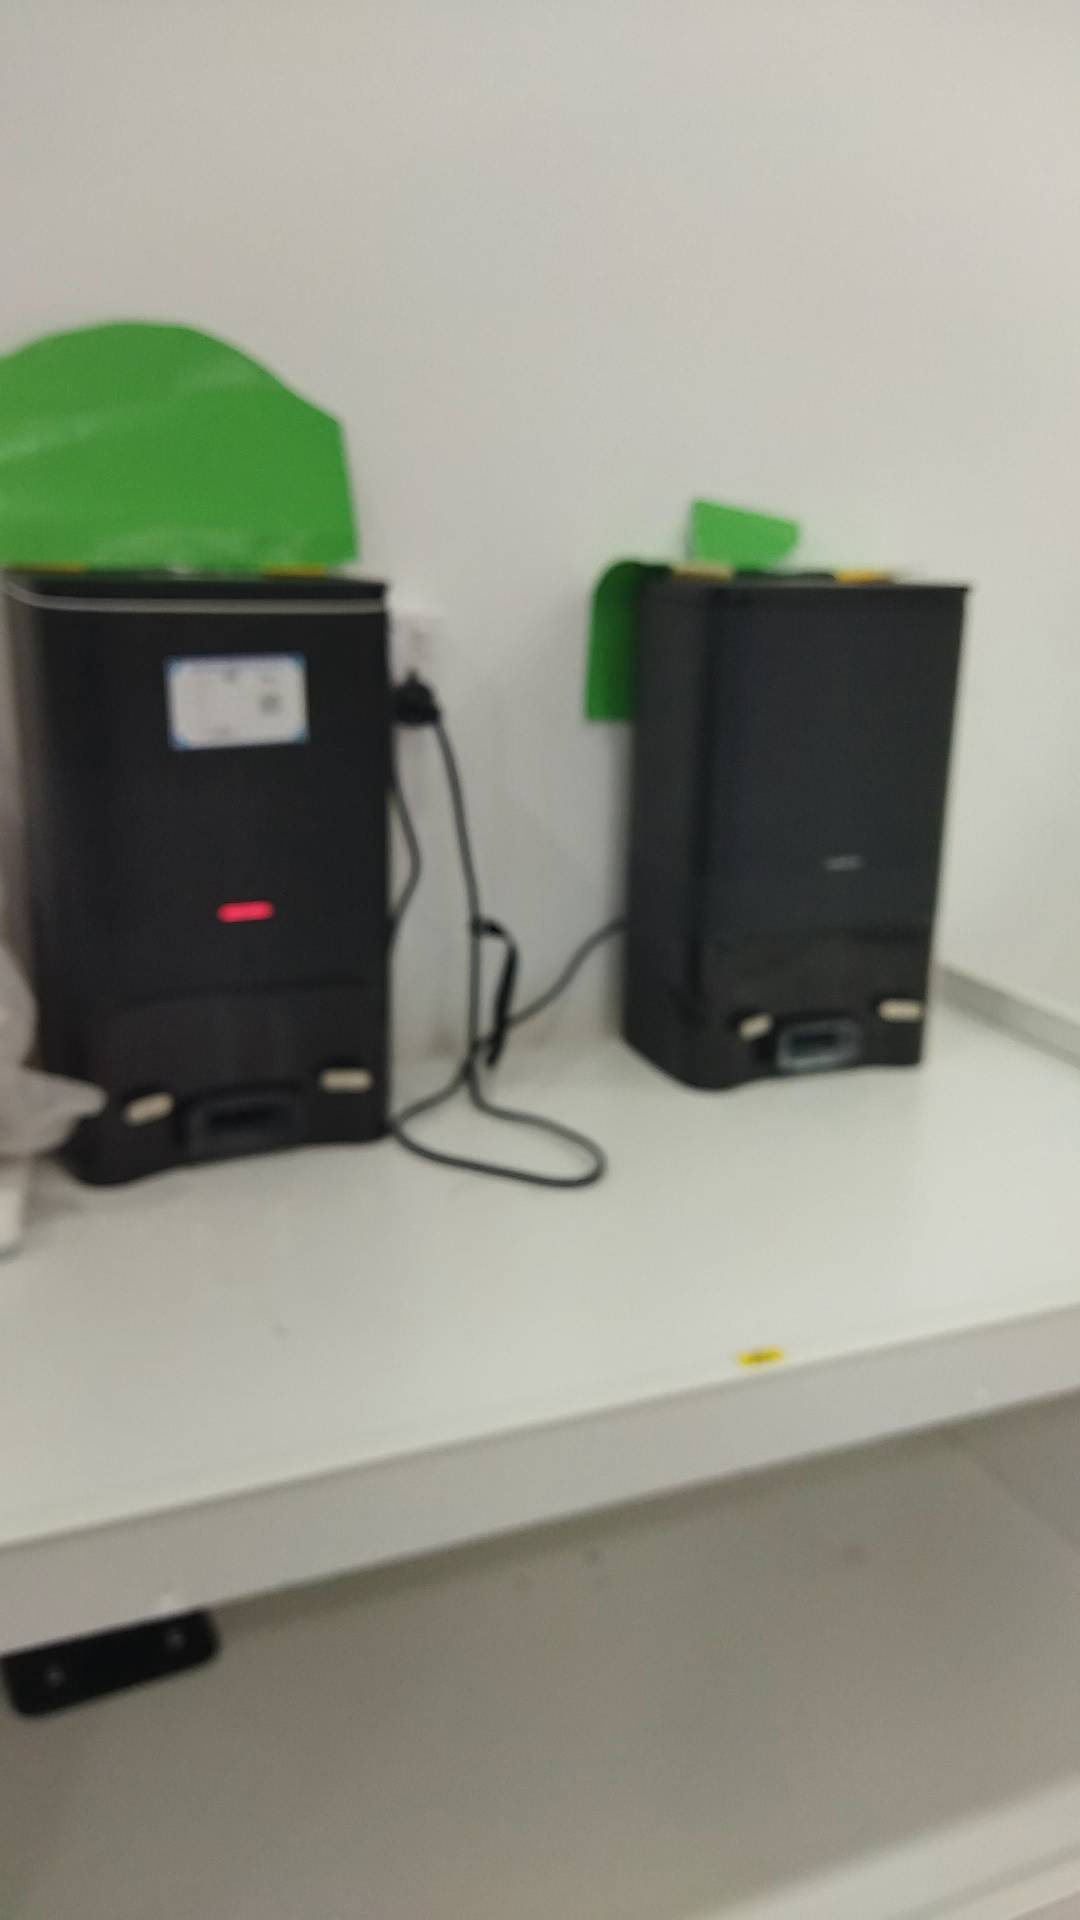dust collecting barrel: (3, 574, 400, 1189), (622, 571, 971, 1093)
